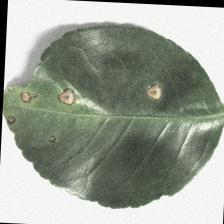canker: (6, 64, 176, 150)
